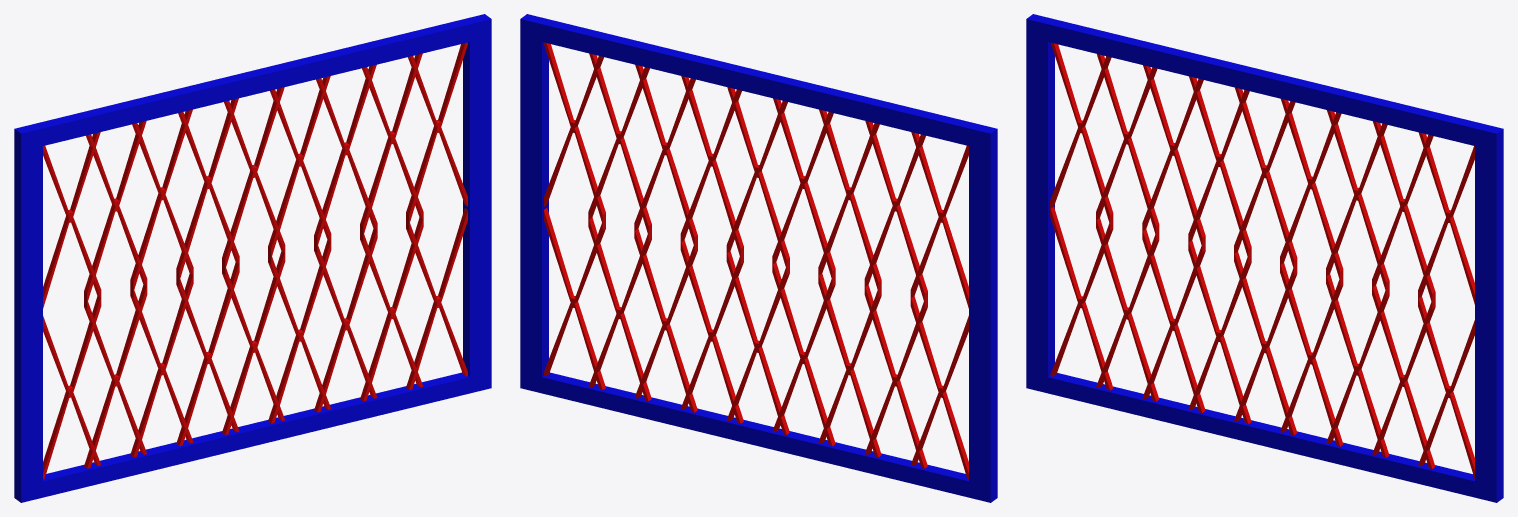
File: 3D_Reja_2.fbx
3 renders of one model, left to right at view 1: azimuth 30°, elevation 25°; view 2: azimuth 150°, elevation 25°; view 3: azimuth 330°, elevation 25°, orthographic.
Parts seen in each view (by area): view 1: Reja2; view 2: Reja2; view 3: Reja2.
Boxes of the visible parts, bbox=[...] form: Reja2: bbox=[14, 14, 491, 502]; Reja2: bbox=[520, 14, 997, 502]; Reja2: bbox=[1026, 14, 1503, 502].
Bounding box in the file's own units: 400 × 300 × 10.
